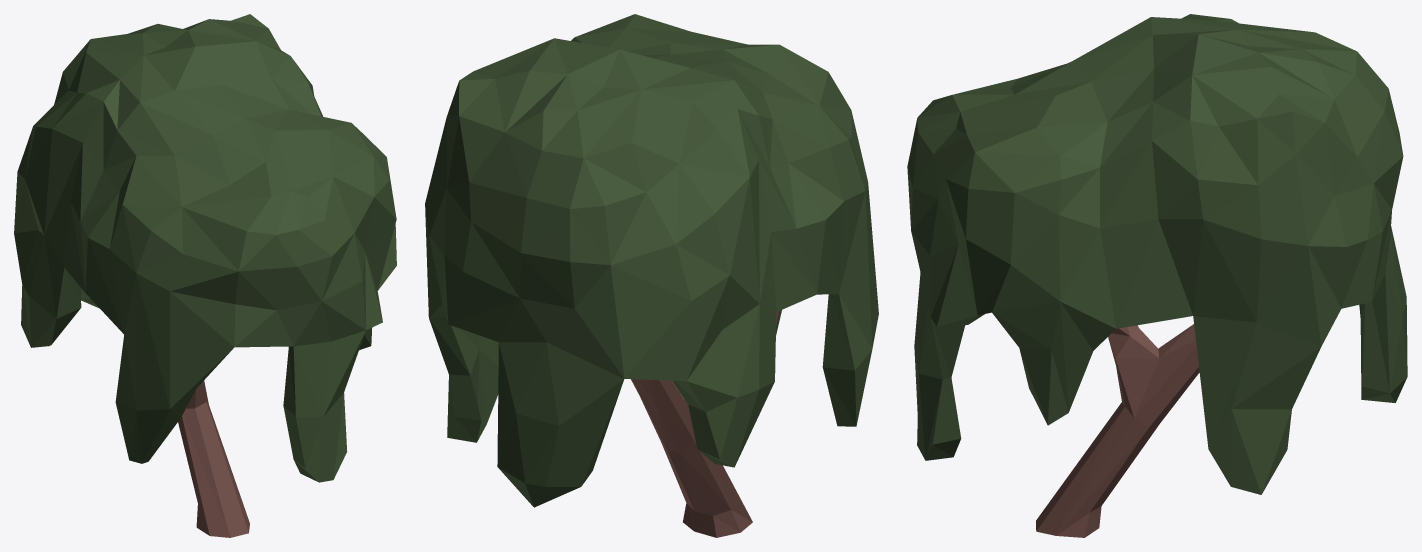
File: Willow_4.lod1.glb
3 views of the same model, side by side, from view 1: azimuth 30°, elevation 25°; view 2: azimuth 150°, elevation 25°; view 3: azimuth 270°, elevation 25° (orthographic). The views are drawn at different scales.
Parts seen in each view (by area): view 1: Willow_4; view 2: Willow_4; view 3: Willow_4.
Part boxes in pixels (x1,y1,x2,y2): Willow_4: [14, 14, 396, 537]; Willow_4: [425, 14, 878, 537]; Willow_4: [907, 14, 1407, 537].
Bounding box in the file's own units: 2.19 × 3.39 × 3.03.
